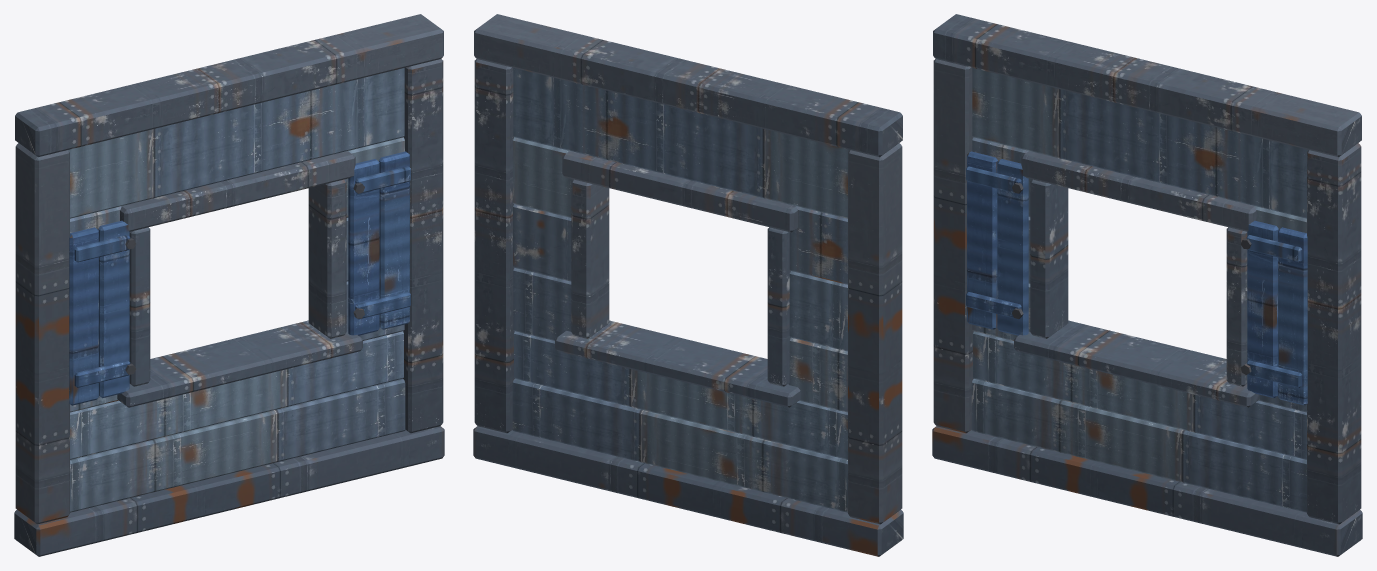
File: pencereli_duvar.glb
3 renders of one model, left to right at view 1: azimuth 30°, elevation 25°; view 2: azimuth 150°, elevation 25°; view 3: azimuth 330°, elevation 25°, orthographic.
Visible parts, largest first — view 1: pencereli_duvar; view 2: pencereli_duvar; view 3: pencereli_duvar.
Boxes of the visible parts, x1,y1,x2,y2 form: pencereli_duvar: (14, 14, 444, 556); pencereli_duvar: (473, 14, 903, 556); pencereli_duvar: (932, 14, 1362, 556).
Size of the model in its own units: 3 by 3.01 by 0.42.
Materials: 1 (1 with a texture image).
